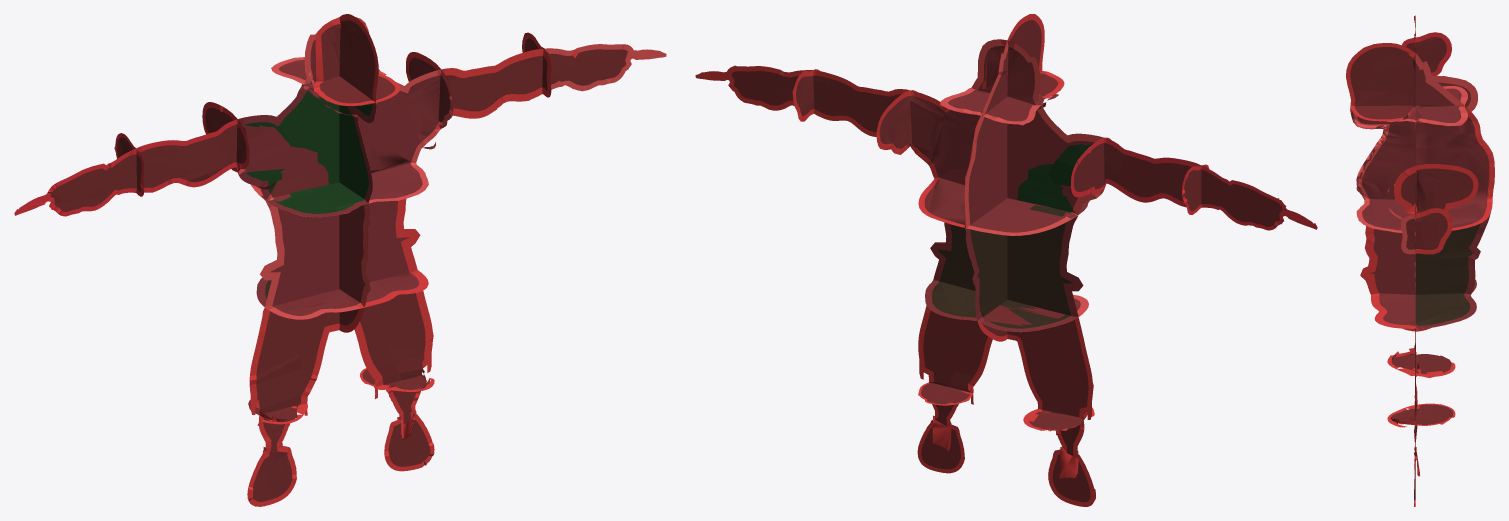
The model's file is BruteParticleMesh_Explosion.fbx.
3 renders of one model, left to right at view 1: azimuth 30°, elevation 25°; view 2: azimuth 150°, elevation 25°; view 3: azimuth 270°, elevation 25°, orthographic. The views are drawn at different scales.
Parts seen in each view (by area): view 1: Torso(Brute).004, R_Hand(Brute).002, Belt(Brute).001, Belt(Brute).013, L_Hand(Brute).006, R_Hand(Brute).001, L_Hand(Brute).002, Belt(Brute).003, R_Hand(Brute).003, Hair(Brute).003, Torso(Brute).001, L_Hand(Brute).007 (+6 smaller); view 2: Torso(Brute).001, Belt(Brute).002, Belt(Brute).012, L_Hand(Brute).004, Belt(Brute).004, R_Hand(Brute).004, L_Hand(Brute).003, R_Hand(Brute).005, Belt(Brute).005, Hair(Brute).002, Belt(Brute).006, Belt(Brute).014 (+6 smaller); view 3: L_Hand(Brute).004, Belt(Brute).005, L_Hand(Brute).006, Belt(Brute).003, Hair(Brute).004, Hair(Brute).005, L_Hand(Brute).003, Hair(Brute).003, L_Hand(Brute).001, R_Hand(Brute).004, L_Hand(Brute).002, Belt(Brute).004 (+7 smaller).
Boxes of the visible parts, x1,y1,x2,y2 form: Torso(Brute).004: [260, 194, 370, 319]; R_Hand(Brute).002: [238, 82, 376, 217]; Belt(Brute).001: [249, 299, 364, 423]; Belt(Brute).013: [354, 273, 434, 391]; L_Hand(Brute).006: [356, 69, 453, 203]; R_Hand(Brute).001: [136, 119, 249, 194]; L_Hand(Brute).002: [441, 49, 551, 118]; Belt(Brute).003: [365, 198, 428, 307]; R_Hand(Brute).003: [14, 149, 143, 216]; Hair(Brute).003: [313, 14, 378, 105]; Torso(Brute).001: [209, 64, 329, 200]; L_Hand(Brute).007: [544, 44, 666, 92]; Torso(Brute).001: [965, 104, 1103, 235]; Belt(Brute).002: [966, 205, 1083, 331]; Belt(Brute).012: [978, 305, 1092, 430]; L_Hand(Brute).004: [876, 90, 982, 227]; Belt(Brute).004: [918, 305, 992, 405]; R_Hand(Brute).004: [1071, 137, 1201, 213]; L_Hand(Brute).003: [793, 70, 911, 152]; R_Hand(Brute).005: [1182, 165, 1316, 230]; Belt(Brute).005: [918, 203, 1001, 321]; Hair(Brute).002: [981, 41, 1041, 124]; Belt(Brute).006: [1025, 410, 1094, 506]; Belt(Brute).014: [917, 385, 973, 473]; L_Hand(Brute).004: [1415, 105, 1494, 230]; Belt(Brute).005: [1415, 208, 1491, 328]; L_Hand(Brute).006: [1350, 106, 1416, 232]; Belt(Brute).003: [1360, 226, 1415, 328]; Hair(Brute).004: [1346, 43, 1415, 121]; Hair(Brute).005: [1413, 53, 1467, 125]; L_Hand(Brute).003: [1415, 164, 1478, 251]; Hair(Brute).003: [1355, 43, 1415, 98]; L_Hand(Brute).001: [1415, 208, 1452, 285]; R_Hand(Brute).004: [1415, 32, 1466, 80]; L_Hand(Brute).002: [1394, 166, 1417, 254]; Belt(Brute).004: [1415, 295, 1468, 425].
Bounding box in the file's own units: 5783 × 4082 × 1286.
